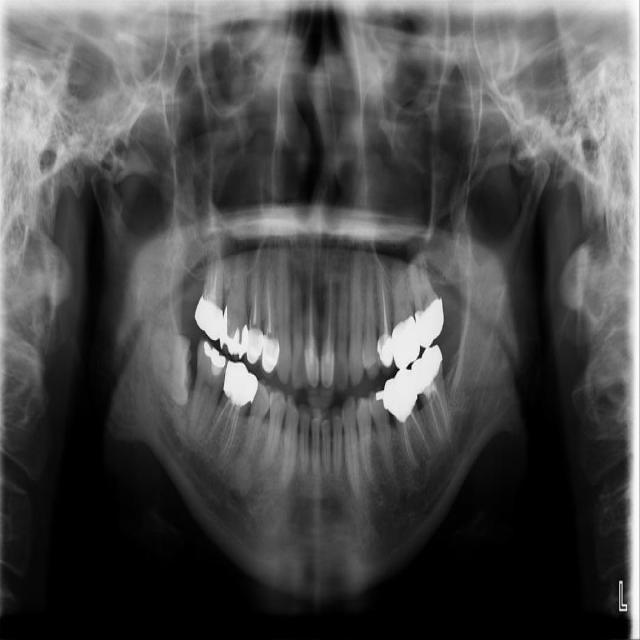52: (179, 335, 242, 397), (381, 367, 422, 427), (217, 359, 263, 412), (387, 315, 424, 371), (409, 344, 445, 400), (412, 294, 448, 349), (190, 294, 227, 342), (219, 305, 250, 361), (259, 331, 281, 381), (366, 386, 392, 428), (243, 322, 264, 373), (376, 331, 398, 377), (302, 343, 320, 396), (320, 343, 337, 396)
73: (197, 391, 254, 472), (389, 407, 440, 475), (416, 372, 455, 447), (305, 243, 323, 344), (201, 231, 223, 311), (321, 264, 340, 345), (376, 264, 392, 339), (245, 258, 262, 327), (262, 264, 277, 332), (616, 588, 622, 596)
BioHorizons Implant: (404, 234, 448, 349)
Blue Sky Bio Implant: (407, 343, 455, 447)
Caries: (195, 230, 225, 340)
Implant: (186, 337, 233, 447)
Keystone Dental Implant: (148, 329, 195, 407)
